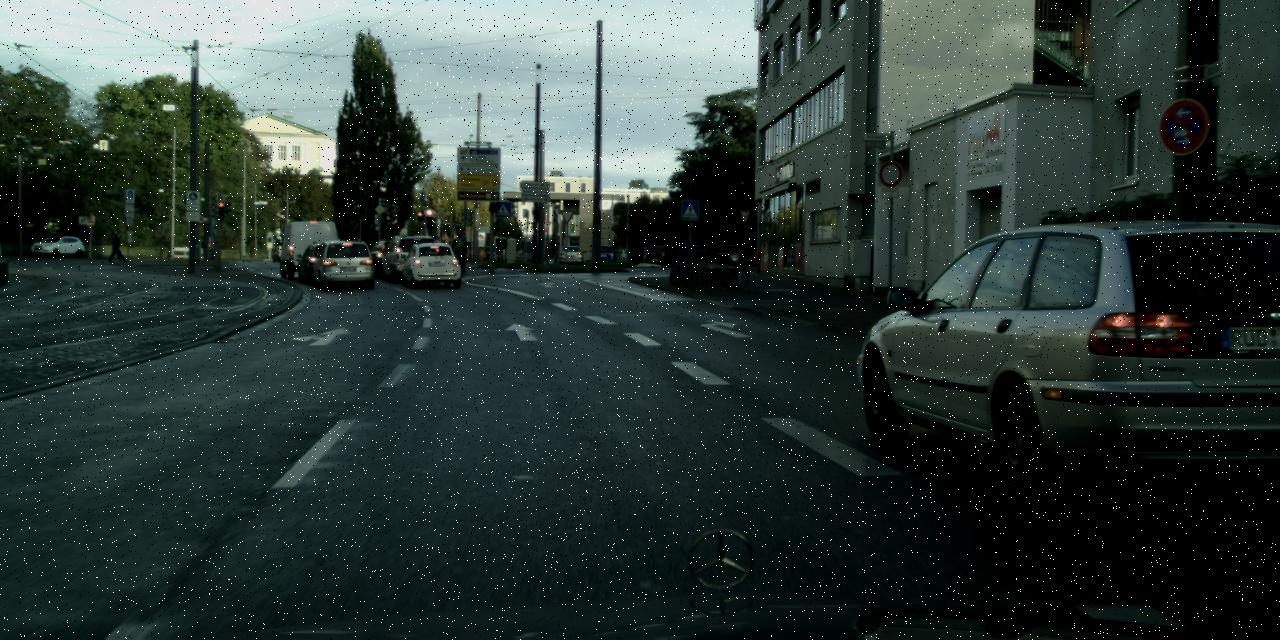ped: (450, 229, 468, 272), (111, 232, 123, 262)
